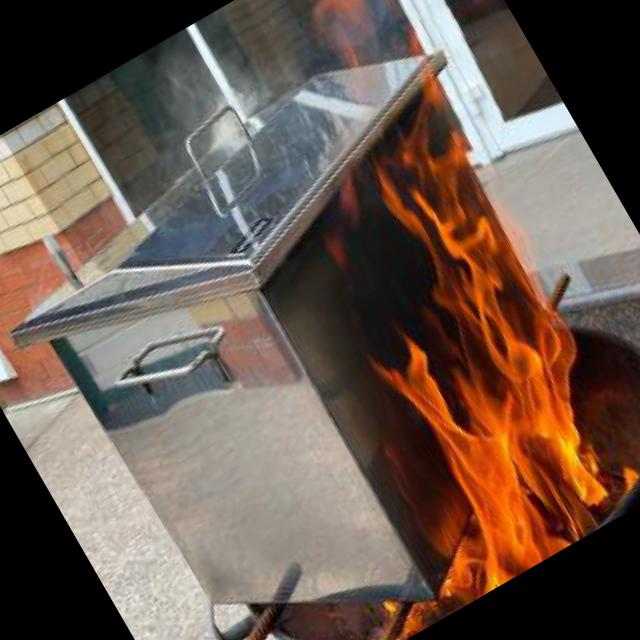fire: (286, 119, 640, 588)
smoke: (82, 8, 306, 216)
